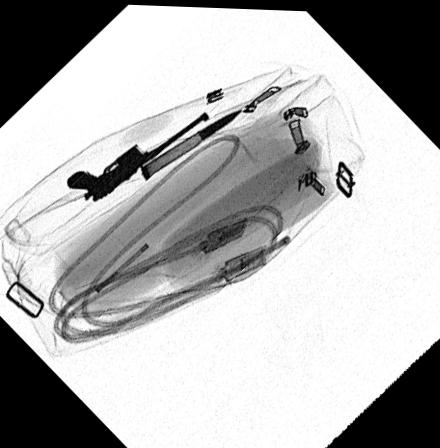Bullet: (141, 105, 244, 177)
Gun: (64, 109, 209, 201)
